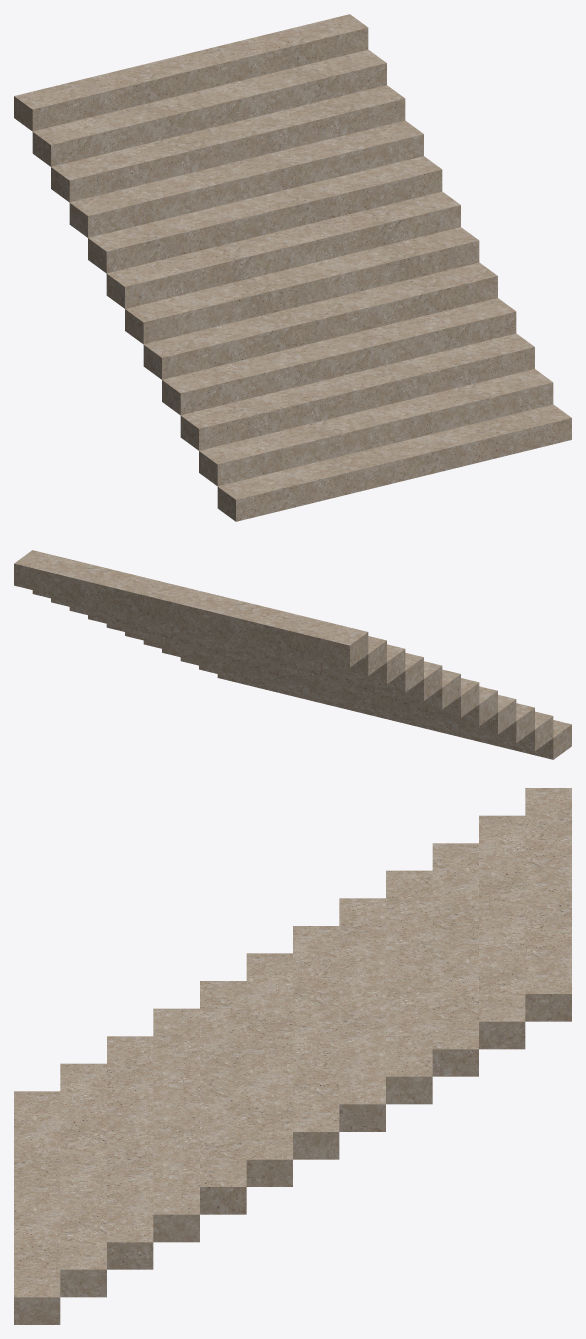
The model's file is Soupstairs005.glb.
3 renders of one model, top to bottom at view 1: azimuth 30°, elevation 25°; view 2: azimuth 150°, elevation 25°; view 3: azimuth 270°, elevation 25°, orthographic. The views are drawn at different scales.
Parts seen in each view (by area): view 1: Soupstairs005_high_1; view 2: Soupstairs005_high_1; view 3: Soupstairs005_high_1.
Part boxes in pixels (x1,y1,x2,y2): Soupstairs005_high_1: [14, 14, 571, 521]; Soupstairs005_high_1: [14, 550, 571, 759]; Soupstairs005_high_1: [14, 788, 571, 1324].
Bounding box in the file's own units: 2.25 × 1.69 × 2.58.
1 material, 1 textured.
